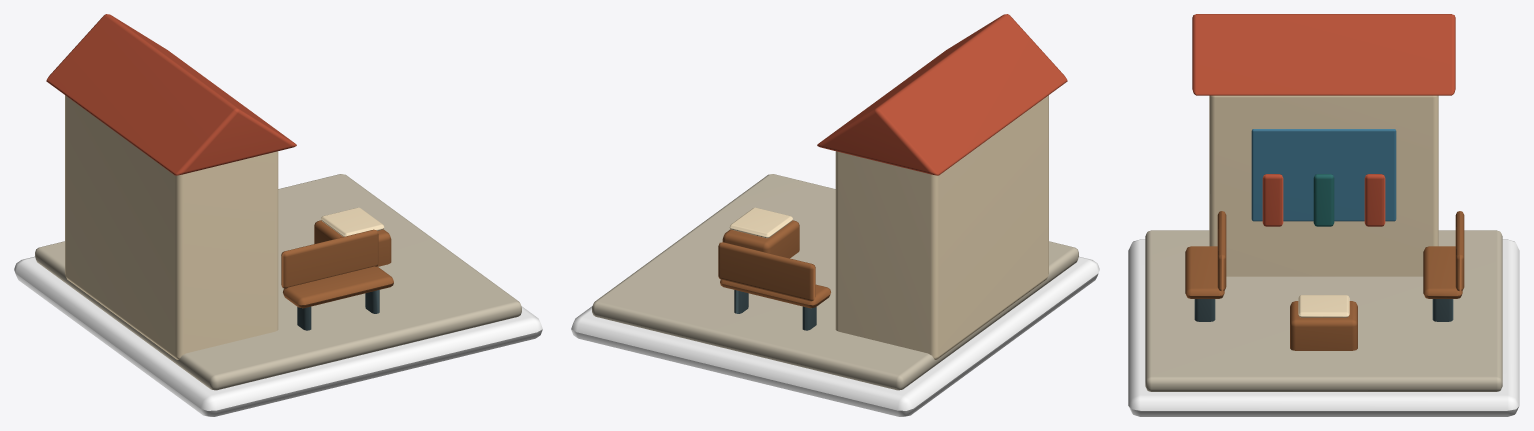
File: library.glb
3 views of the same model, side by side, from view 1: azimuth 30°, elevation 25°; view 2: azimuth 150°, elevation 25°; view 3: azimuth 270°, elevation 25° (orthographic).
Visible parts, largest first — view 1: Batch_Warm plaster_, Reading terrace, Batch_Terracotta roof_, Pavement, Batch_Honey wood_, Batch_Dark metal_; view 2: Batch_Warm plaster_, Reading terrace, Batch_Terracotta roof_, Pavement, Batch_Honey wood_, Batch_Dark metal_; view 3: Reading terrace, Batch_Warm plaster_, Batch_Terracotta roof_, Pavement, Library glass, Batch_Honey wood_, Books.001, Batch_Dark metal_.
Boxes of the visible parts, x1=… form: Batch_Warm plaster_: x1=65, y1=95, x2=384, y2=359; Reading terrace: x1=35, y1=174, x2=521, y2=390; Batch_Terracotta roof_: x1=46, y1=14, x2=296, y2=175; Pavement: x1=14, y1=256, x2=542, y2=416; Batch_Honey wood_: x1=281, y1=220, x2=393, y2=308; Batch_Dark metal_: x1=297, y1=290, x2=379, y2=330; Batch_Warm plaster_: x1=729, y1=95, x2=1048, y2=359; Reading terrace: x1=592, y1=174, x2=1078, y2=390; Batch_Terracotta roof_: x1=817, y1=14, x2=1067, y2=175; Pavement: x1=571, y1=256, x2=1099, y2=416; Batch_Honey wood_: x1=718, y1=220, x2=830, y2=308; Batch_Dark metal_: x1=734, y1=290, x2=816, y2=330; Reading terrace: x1=1145, y1=230, x2=1502, y2=391; Batch_Warm plaster_: x1=1209, y1=95, x2=1438, y2=317; Batch_Terracotta roof_: x1=1192, y1=14, x2=1455, y2=226; Pavement: x1=1128, y1=239, x2=1519, y2=416; Library glass: x1=1251, y1=129, x2=1396, y2=221; Batch_Honey wood_: x1=1185, y1=211, x2=1464, y2=350; Books.001: x1=1313, y1=174, x2=1334, y2=226; Batch_Dark metal_: x1=1194, y1=299, x2=1453, y2=321.
Size of the model in its own units: 2.3 by 1.77 by 2.3.
